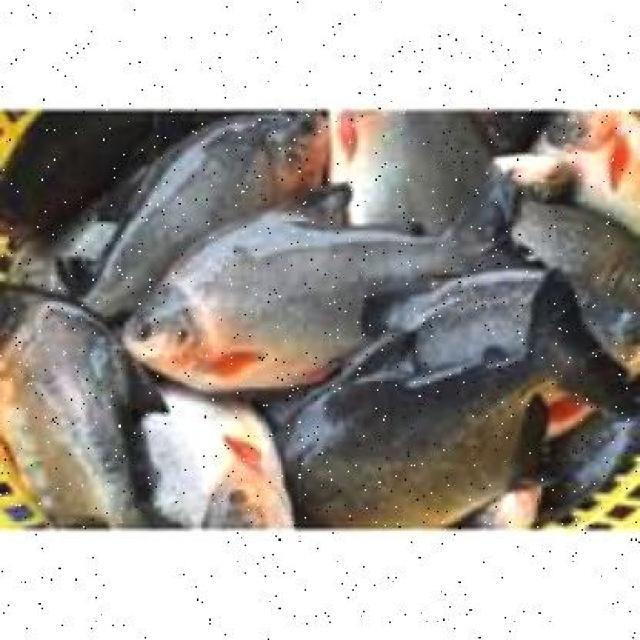ikan-pacu: (130, 204, 482, 384)
